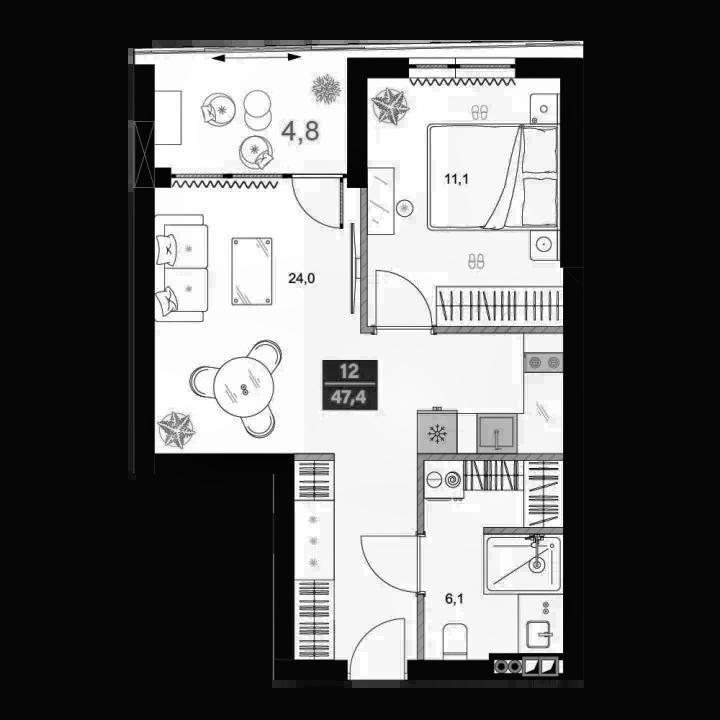door: (357, 532, 432, 599), (372, 268, 437, 338), (345, 615, 410, 683), (286, 171, 347, 231)
window: (455, 55, 517, 80), (228, 168, 285, 184), (173, 170, 226, 184), (411, 59, 453, 74)
